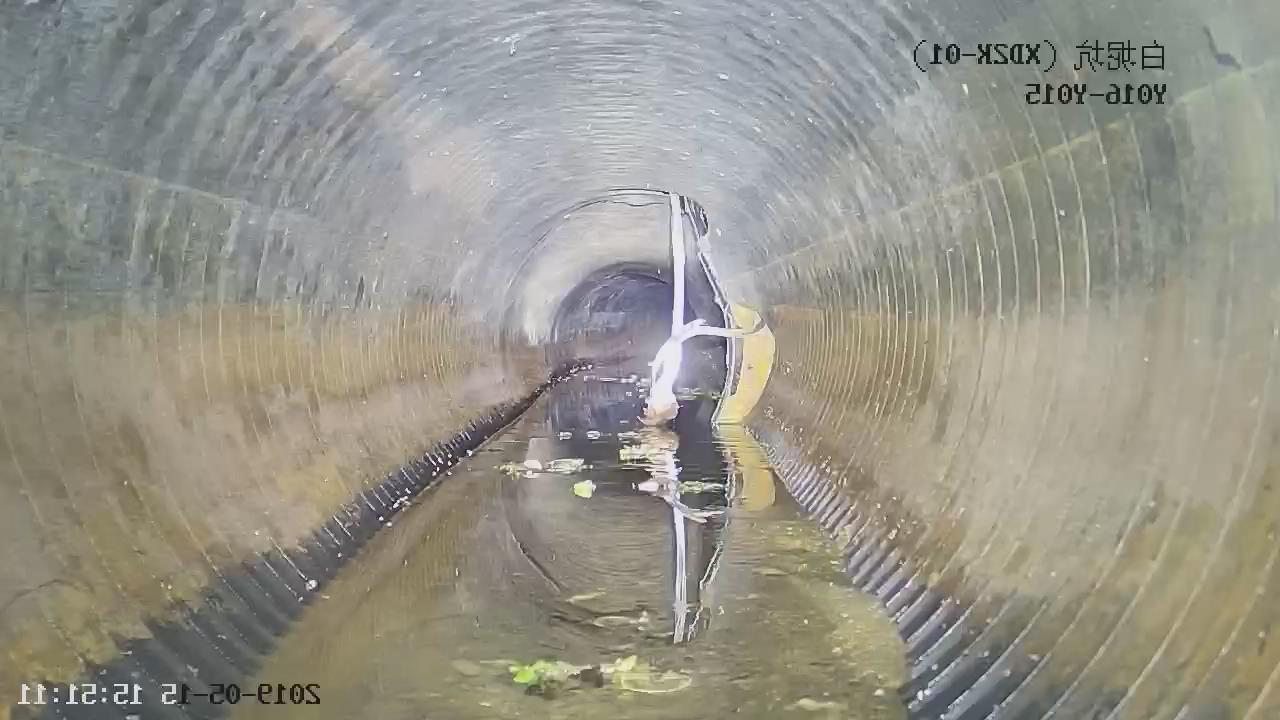JKCL: (634, 188, 779, 436)
